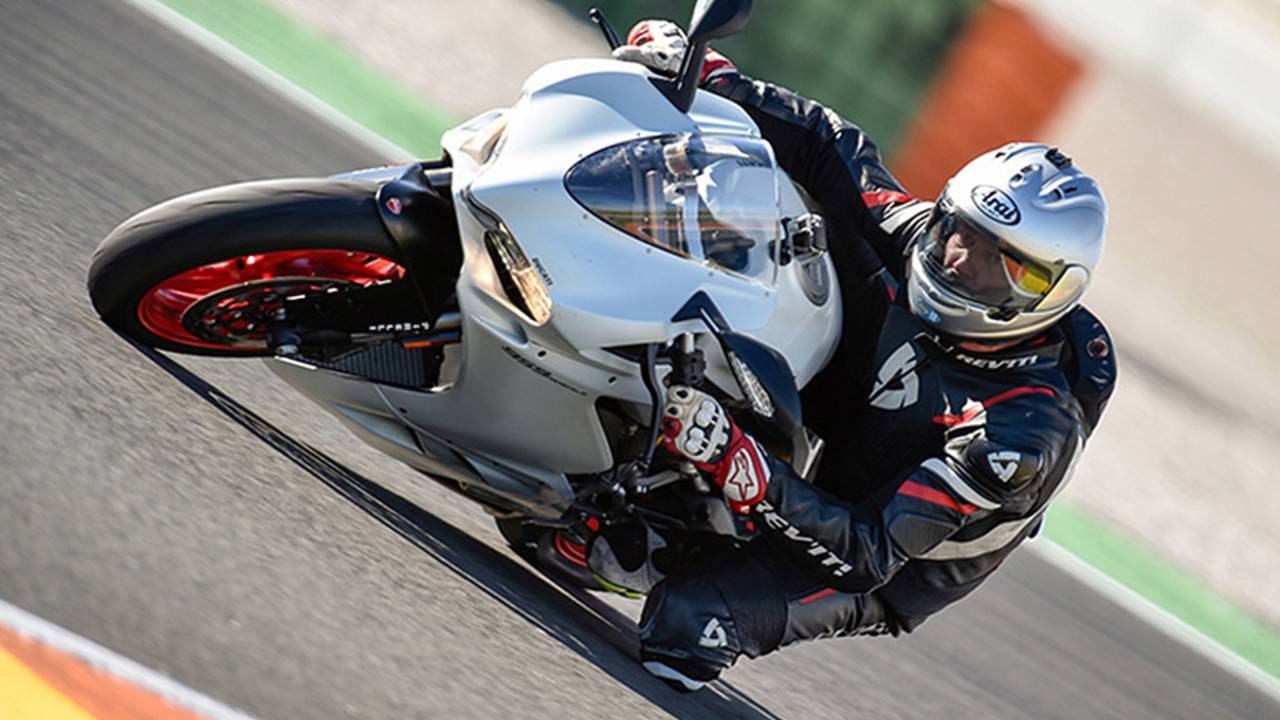helmet: (394, 57, 1123, 554)
